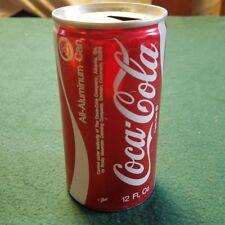metal: (52, 4, 168, 212)
